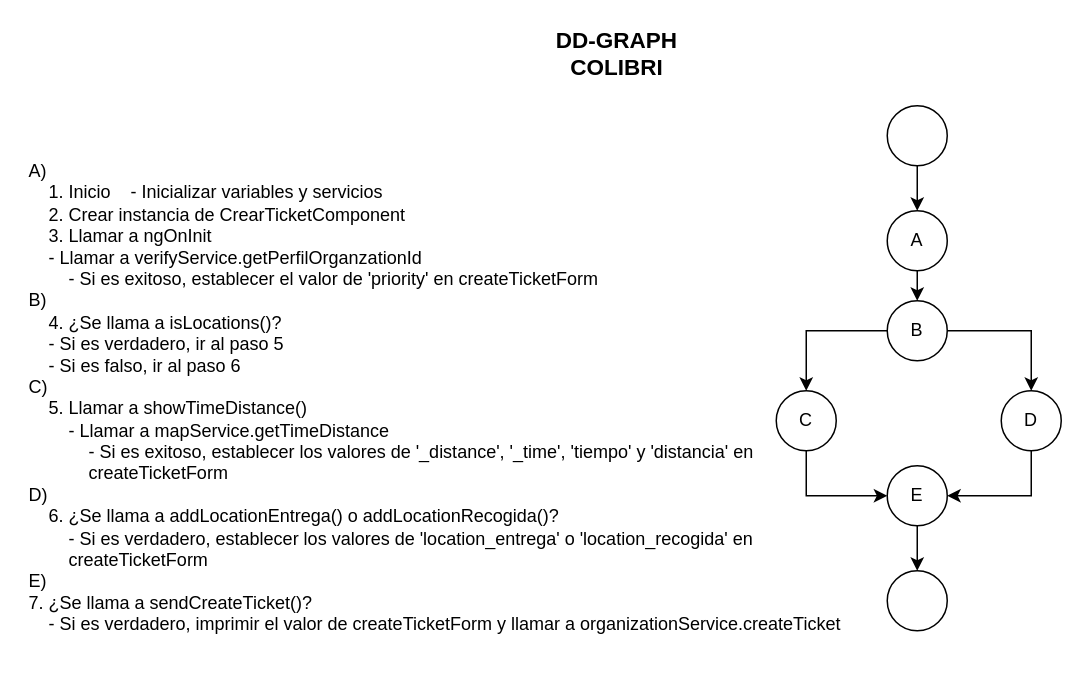
The diagram is 1088 pixels wide and 686 high, and some of its shapes have lost their labels. Here are the shapes that lost their labels. From the top down, the box of each, then its label:
(886, 104, 947, 166): SRC
(886, 569, 947, 631): SNK
